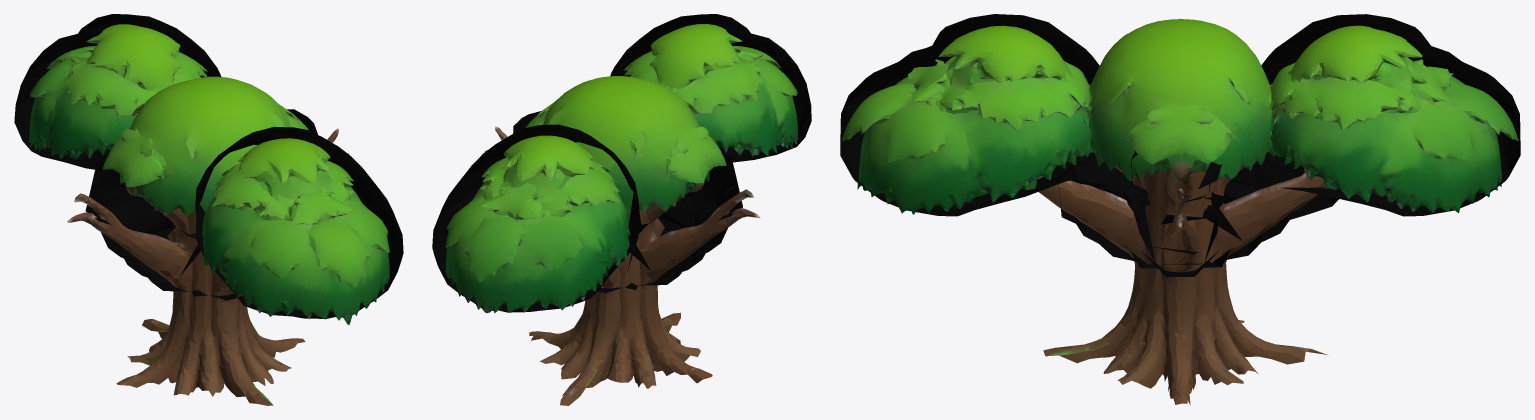
File: Jungle_CanopyTree.glb
The picture shows the model from 3 angles, left to right: view 1: azimuth 30°, elevation 25°; view 2: azimuth 150°, elevation 25°; view 3: azimuth 270°, elevation 25°; orthographic projection. The views are drawn at different scales.
Visible parts, largest first — view 1: Jungle_CanopyTree, Jungle_CanopyTree_OutlineHull; view 2: Jungle_CanopyTree, Jungle_CanopyTree_OutlineHull; view 3: Jungle_CanopyTree, Jungle_CanopyTree_OutlineHull.
Boxes of the visible parts, <box> form: Jungle_CanopyTree: <box>29,24,389,405</box>; Jungle_CanopyTree_OutlineHull: <box>14,14,403,318</box>; Jungle_CanopyTree: <box>445,24,798,405</box>; Jungle_CanopyTree_OutlineHull: <box>432,14,811,312</box>; Jungle_CanopyTree: <box>842,19,1518,405</box>; Jungle_CanopyTree_OutlineHull: <box>840,14,1520,276</box>.
Size of the model in its own units: 1.06 by 1.04 by 1.91.
2 materials, 1 textured.
